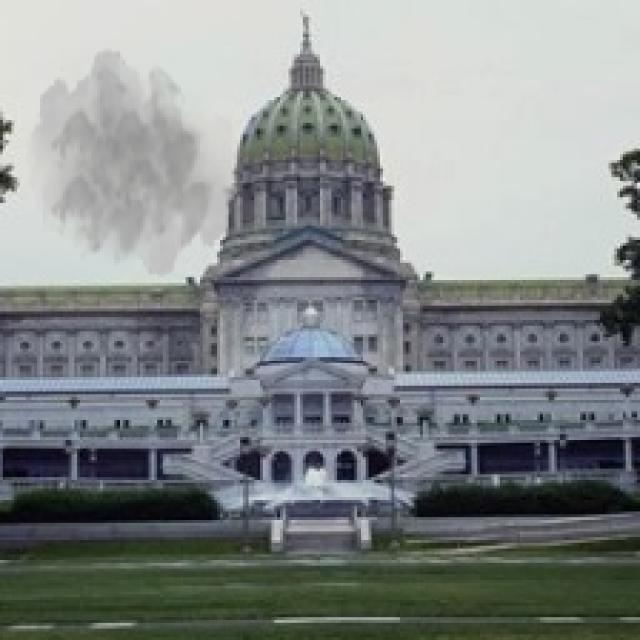Smoke: (26, 46, 243, 280)
